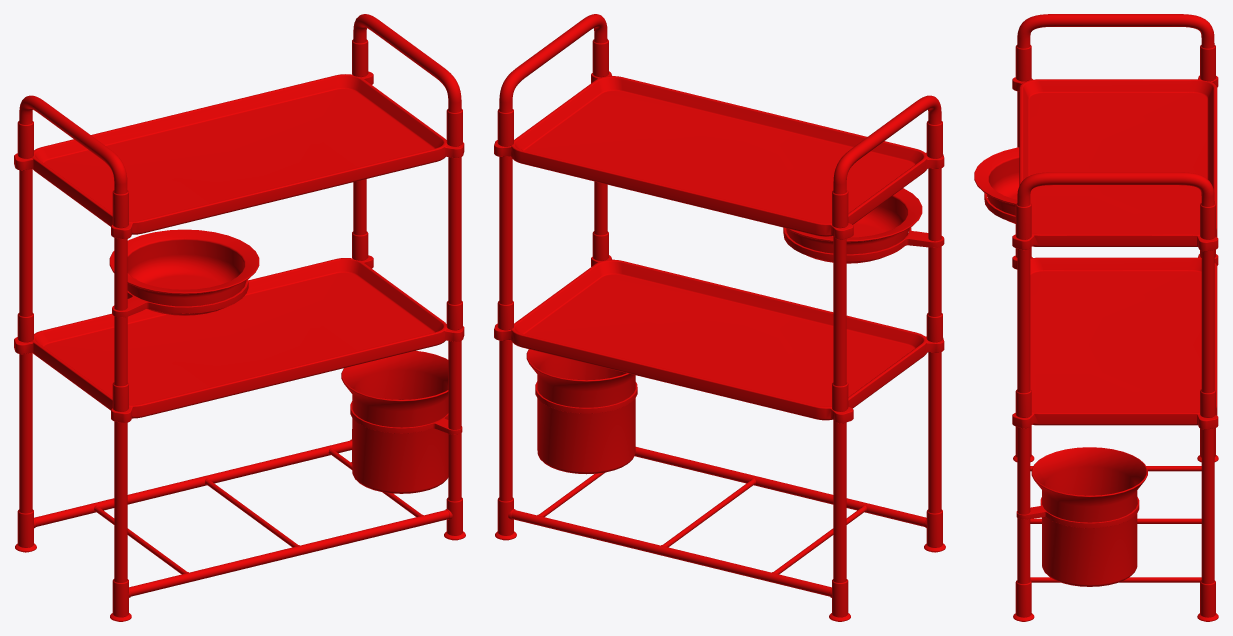
File: Table_3.fbx
3 renders of one model, left to right at view 1: azimuth 30°, elevation 25°; view 2: azimuth 150°, elevation 25°; view 3: azimuth 270°, elevation 25°, orthographic. The views are drawn at different scales.
Visible parts, largest first — view 1: polySurface12; view 2: polySurface12; view 3: polySurface12.
Boxes of the visible parts, x1,y1,x2,y2 form: polySurface12: [14, 14, 465, 621]; polySurface12: [494, 14, 945, 621]; polySurface12: [974, 14, 1218, 621].
Size of the model in its own units: 89.02 by 104 by 51.38.
